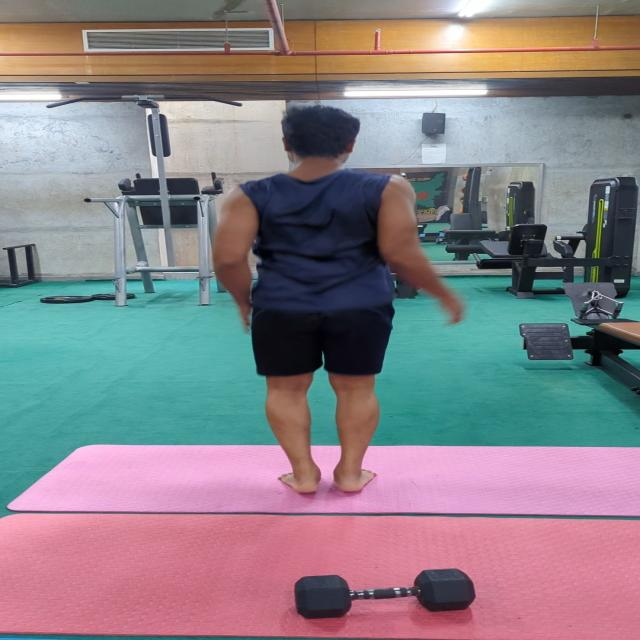Normal_JumpingJacks: (156, 102, 502, 506)
